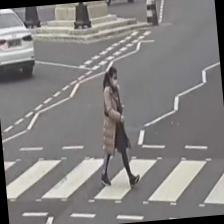person: (92, 64, 140, 190)
